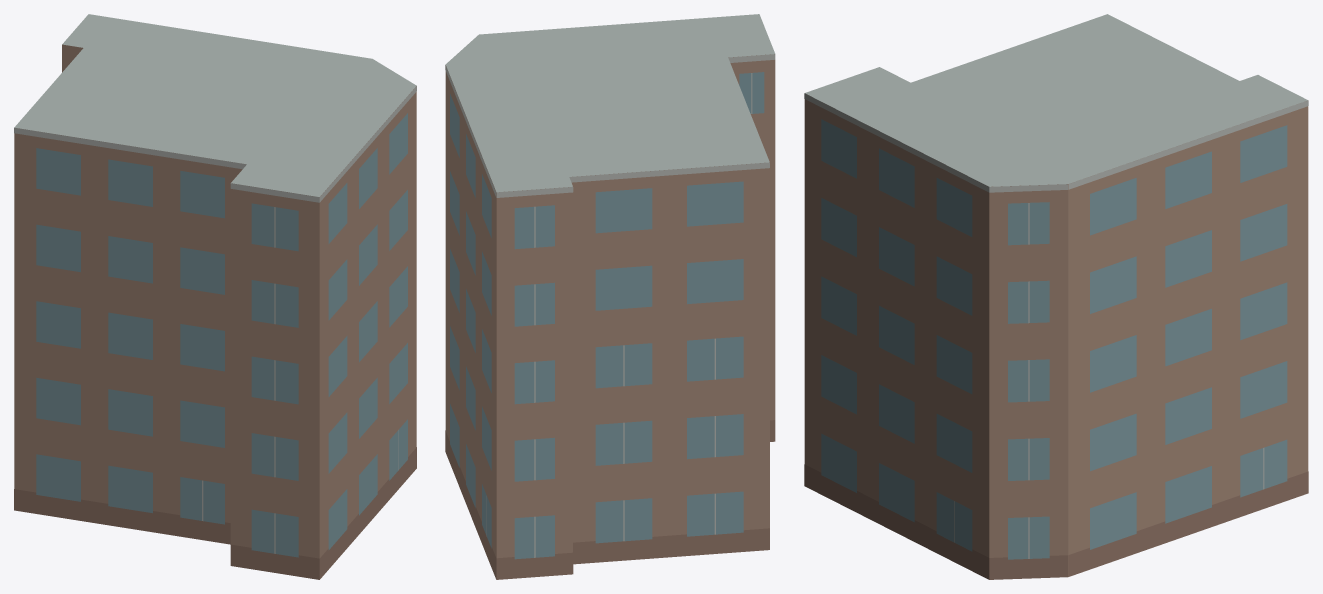
Rendered from survey-upis-32928510.glb.
3 views of the same model, side by side, from view 1: azimuth 30°, elevation 25°; view 2: azimuth 150°, elevation 25°; view 3: azimuth 270°, elevation 25° (orthographic). The views are drawn at different scales.
Parts seen in each view (by area): view 1: survey-upis-32928510.tmp; view 2: survey-upis-32928510.tmp; view 3: survey-upis-32928510.tmp.
Boxes of the visible parts, left/top/right/bottom form: survey-upis-32928510.tmp: left=14, top=14, right=416, bottom=579; survey-upis-32928510.tmp: left=445, top=14, right=775, bottom=579; survey-upis-32928510.tmp: left=804, top=14, right=1308, bottom=579.
Size of the model in its own units: 15.57 by 16.5 by 19.18.
